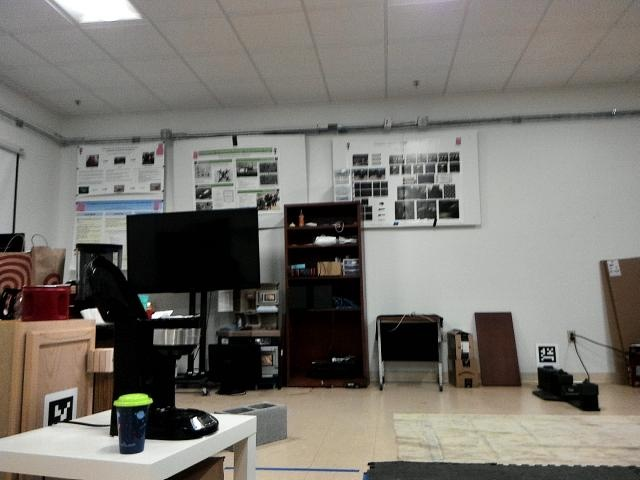useless_cup: (109, 392, 152, 455)
